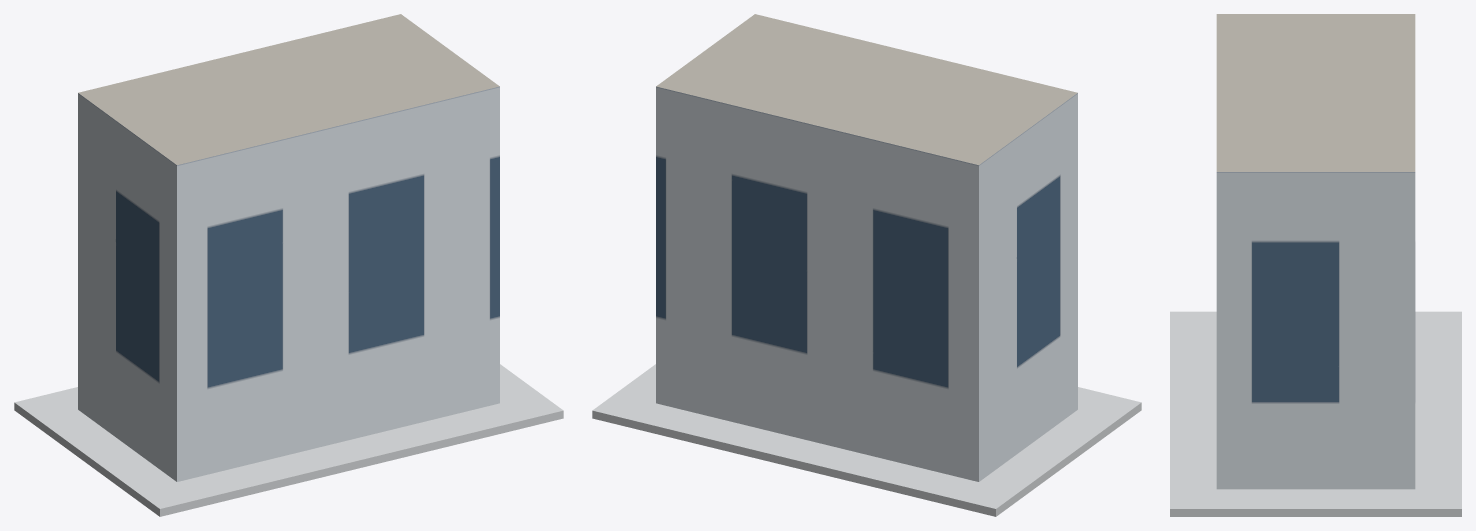
Rendered from Area_police.glb.
The picture shows the model from 3 angles, left to right: view 1: azimuth 30°, elevation 25°; view 2: azimuth 150°, elevation 25°; view 3: azimuth 270°, elevation 25°; orthographic projection.
Visible parts, largest first — view 1: bldg_police, platform.006; view 2: bldg_police, platform.006; view 3: bldg_police, platform.006.
Part boxes in pixels (x1,y1,x2,y2): bldg_police: (78, 14, 499, 481); platform.006: (14, 364, 563, 516); bldg_police: (656, 14, 1077, 481); platform.006: (592, 364, 1141, 516); bldg_police: (1216, 14, 1415, 489); platform.006: (1170, 311, 1461, 516).
Size of the model in its own units: 8 by 6.15 by 5.
5 materials, 1 textured.
